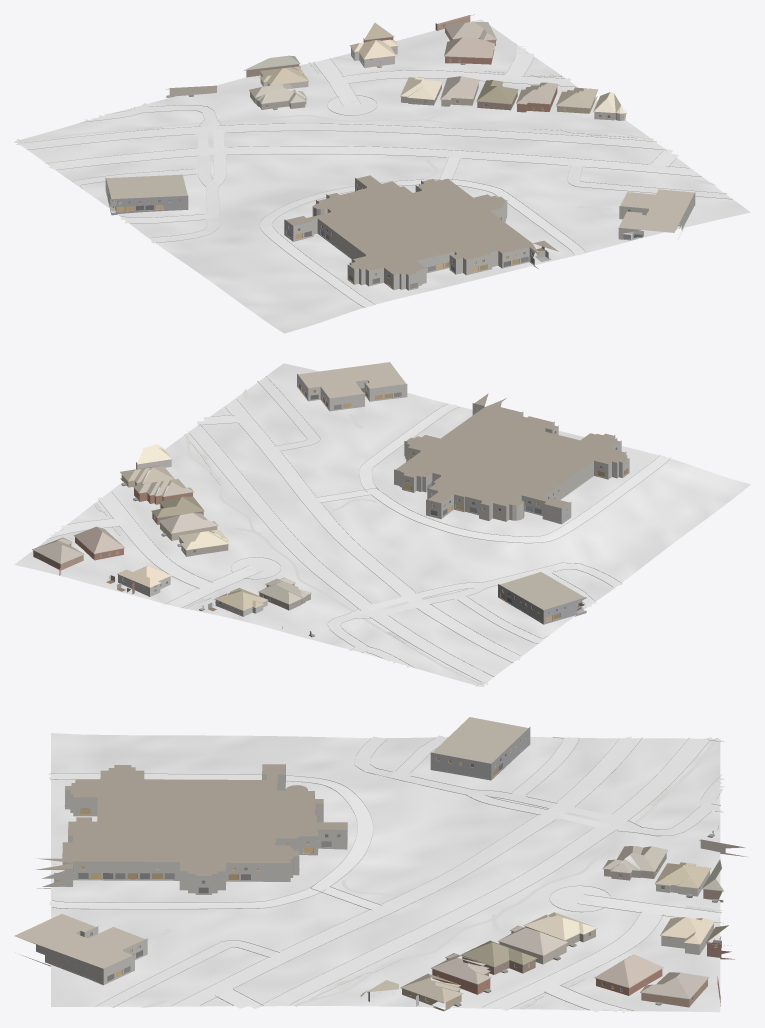
3 renders of one model, top to bottom at view 1: azimuth 30°, elevation 25°; view 2: azimuth 150°, elevation 25°; view 3: azimuth 270°, elevation 25°, orthographic. The views are drawn at different scales.
Parts seen in each view (by area): view 1: ground, roof_flat, concrete, asphalt, roof, wall_com, curb, wall, walk, detail, wall_stone, glass (+2 smaller); view 2: ground, roof_flat, concrete, asphalt, roof, wall_com, curb, wall, walk, detail, wall_stone, glass_lit (+2 smaller); view 3: ground, roof_flat, concrete, asphalt, roof, wall_com, curb, wall, walk, detail, wall_stone, glass (+3 smaller).
Boxes of the visible parts, bbox=[...] form: ground: bbox=[17, 19, 750, 333]; roof_flat: bbox=[106, 174, 694, 275]; concrete: bbox=[15, 46, 731, 308]; asphalt: bbox=[16, 123, 700, 176]; roof: bbox=[244, 22, 626, 113]; wall_com: bbox=[105, 177, 695, 290]; curb: bbox=[19, 43, 732, 307]; wall: bbox=[246, 15, 597, 113]; walk: bbox=[14, 62, 716, 210]; detail: bbox=[106, 14, 691, 289]; wall_stone: bbox=[260, 46, 626, 120]; glass: bbox=[128, 24, 631, 288]; ground: bbox=[14, 363, 750, 685]; roof_flat: bbox=[298, 362, 627, 610]; concrete: bbox=[49, 376, 670, 686]; asphalt: bbox=[190, 399, 520, 684]; roof: bbox=[32, 444, 311, 610]; wall_com: bbox=[297, 374, 629, 624]; curb: bbox=[46, 376, 671, 685]; wall: bbox=[33, 474, 310, 610]; walk: bbox=[93, 389, 484, 686]; detail: bbox=[29, 383, 627, 637]; wall_stone: bbox=[118, 459, 267, 616]; glass_lit: bbox=[116, 387, 628, 621]; ground: bbox=[51, 733, 720, 1012]; roof_flat: bbox=[14, 717, 528, 968]; concrete: bbox=[48, 735, 725, 1013]; asphalt: bbox=[171, 736, 711, 1006]; roof: bbox=[360, 846, 728, 1002]; wall_com: bbox=[21, 727, 530, 985]; curb: bbox=[50, 735, 723, 1010]; wall: bbox=[402, 853, 734, 1011]; walk: bbox=[140, 738, 722, 1009]; detail: bbox=[50, 738, 740, 1006]; wall_stone: bbox=[368, 871, 713, 1006]; glass: bbox=[78, 739, 699, 1000].
Size of the model in its own units: 255 by 15.54 by 275.
